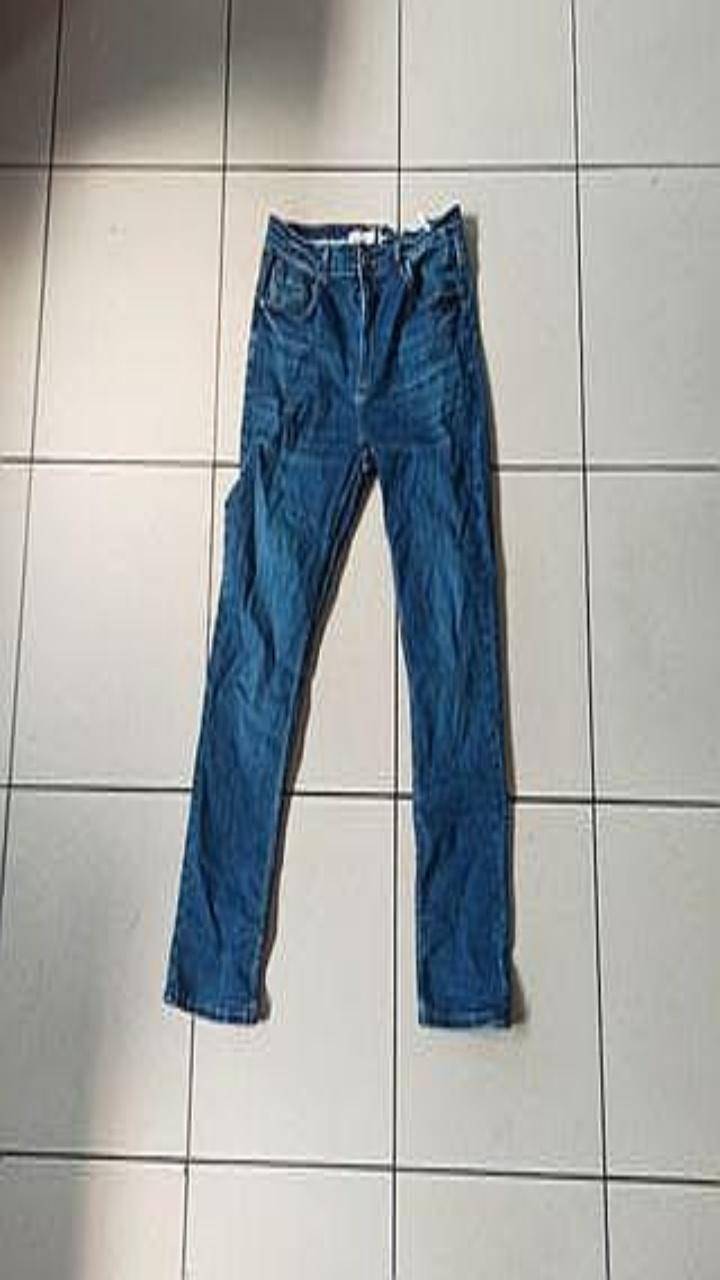Jeans: (163, 202, 510, 1026)
